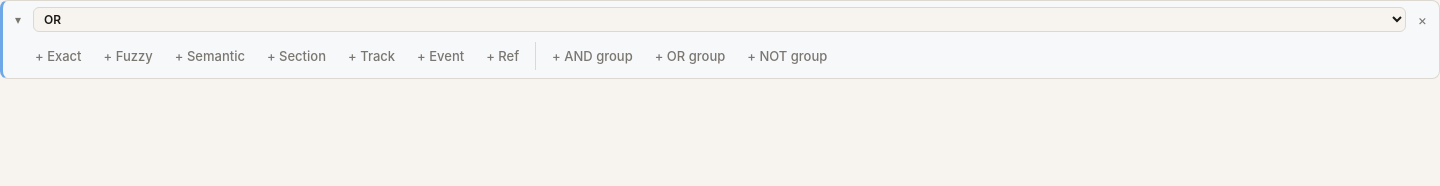
Scenario: ConditionTreeEditor › adding children inside an existing group nests them
Click the button "+ Exact" at [58, 56], box [27,42,90,70]
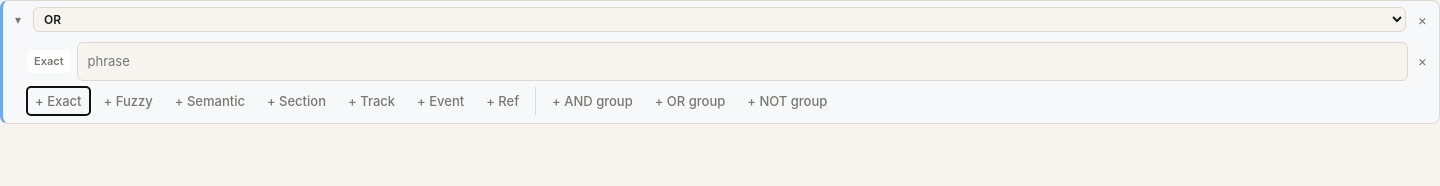
Click the button "+ Section" at [296, 101], box [259,87,334,115]
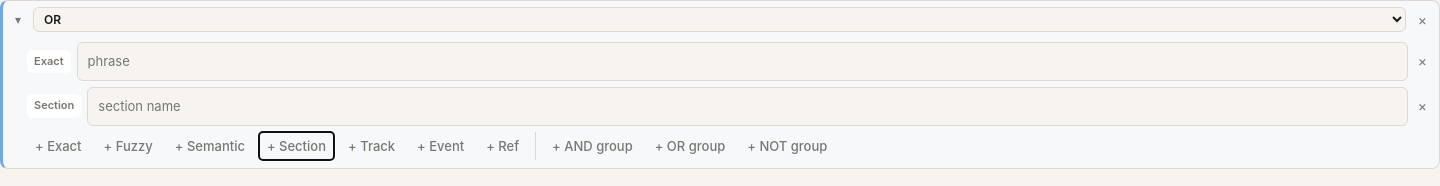
Expected: the text "Exact" is shown, [27,50,70,73]
Expected: the text "Section" is shown, [27,94,81,118]
